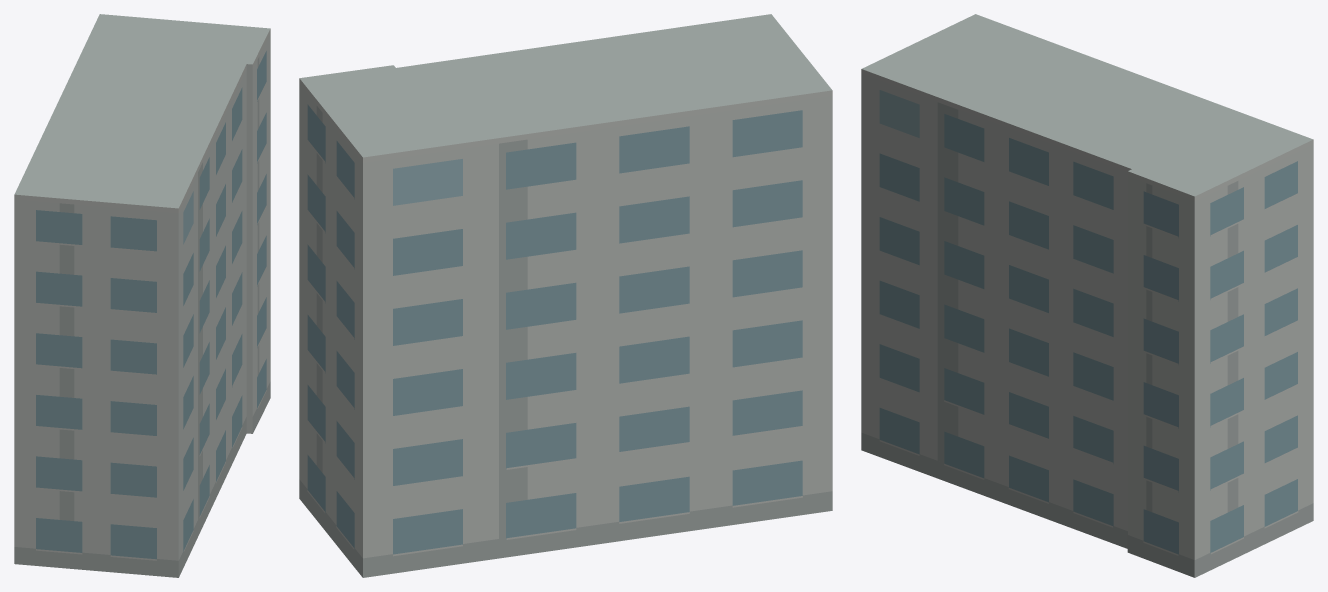
Rendered from survey-upis-32624003.glb.
3 views of the same model, side by side, from view 1: azimuth 30°, elevation 25°; view 2: azimuth 150°, elevation 25°; view 3: azimuth 270°, elevation 25° (orthographic). The views are drawn at different scales.
Visible parts, largest first — view 1: survey-upis-32624003.tmp; view 2: survey-upis-32624003.tmp; view 3: survey-upis-32624003.tmp.
Boxes of the visible parts, left/top/right/bottom form: survey-upis-32624003.tmp: left=14, top=14, right=270, bottom=577; survey-upis-32624003.tmp: left=299, top=14, right=832, bottom=577; survey-upis-32624003.tmp: left=861, top=14, right=1313, bottom=577.
Size of the model in its own units: 19 by 18.5 by 19.88.
